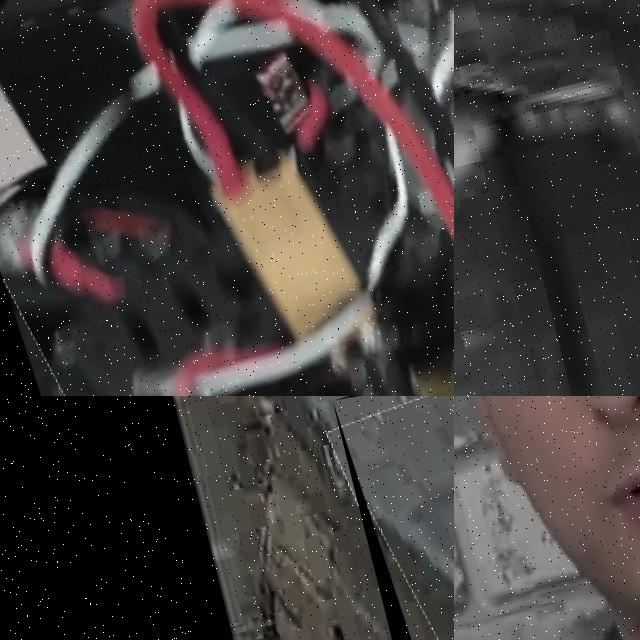0: (332, 396, 454, 640)
drone: (0, 0, 454, 396)
